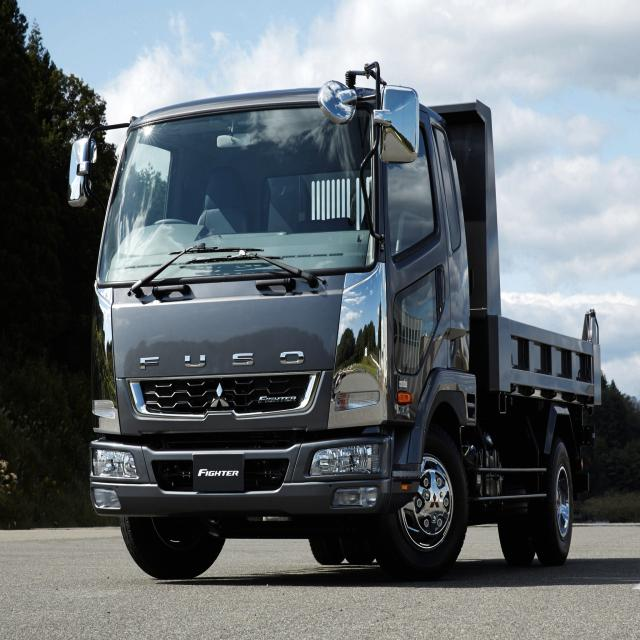truck: (58, 64, 606, 582)
